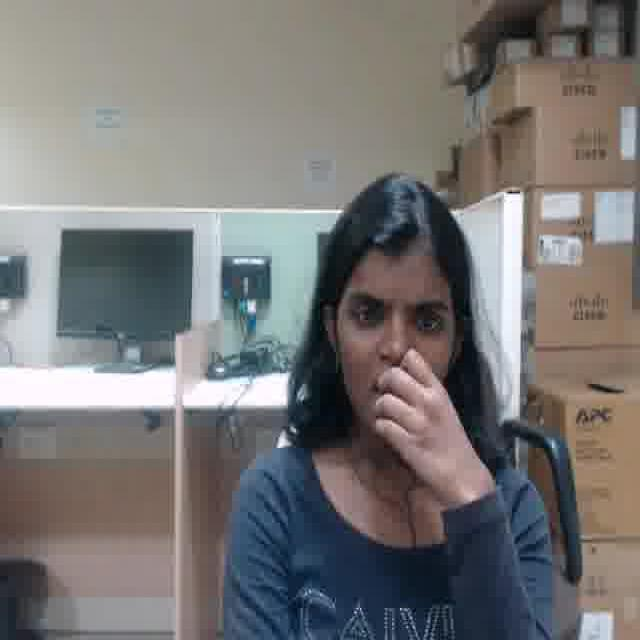Confusion: (334, 244, 453, 443)
